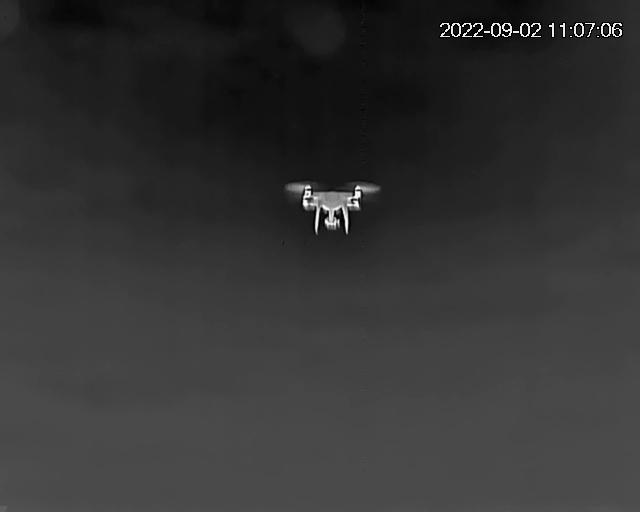DJI-Phantom: (287, 182, 382, 233)
